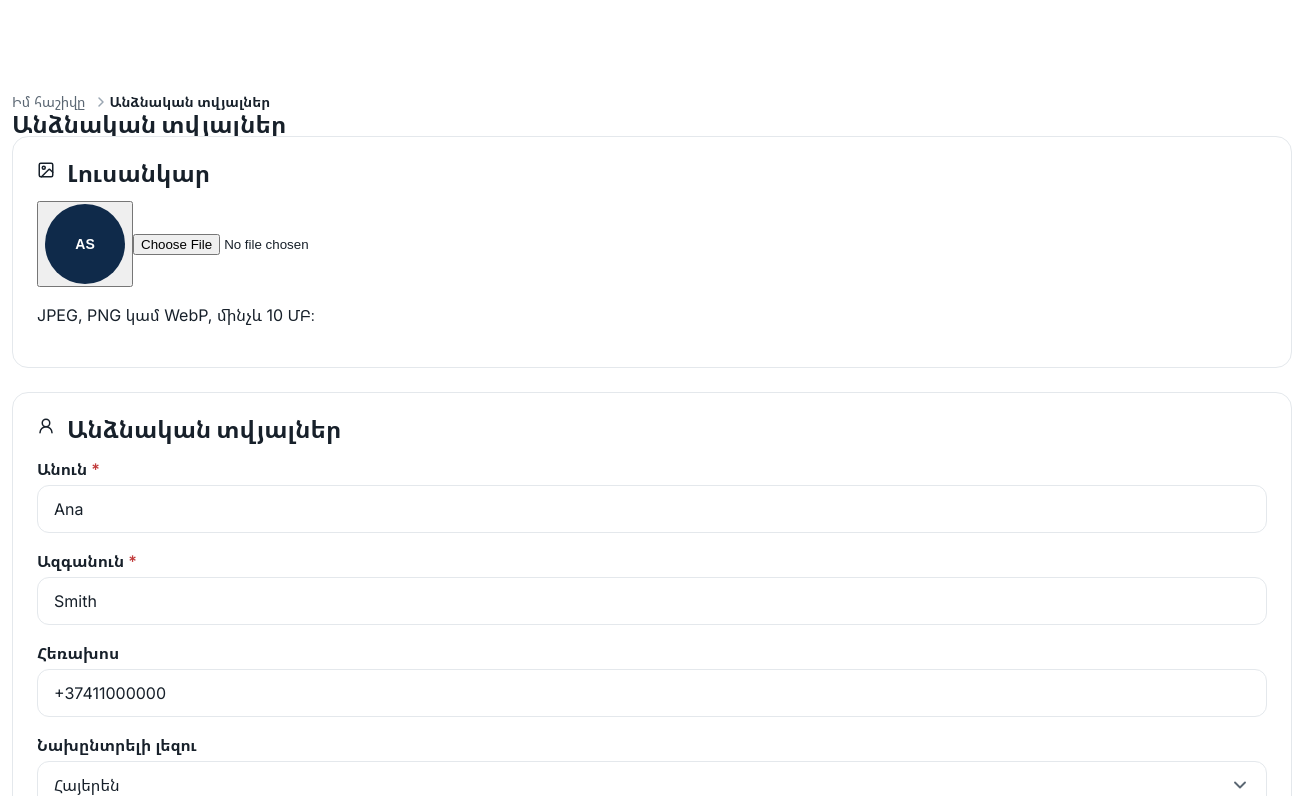
Scenario: ProfilePageContent (apps/web/src/modules/profile) › a failed save shows an error toast
Type "x" into the field labelled "Անուն *" at (652, 509), box [54,486,1250,532]
(page scrolled)
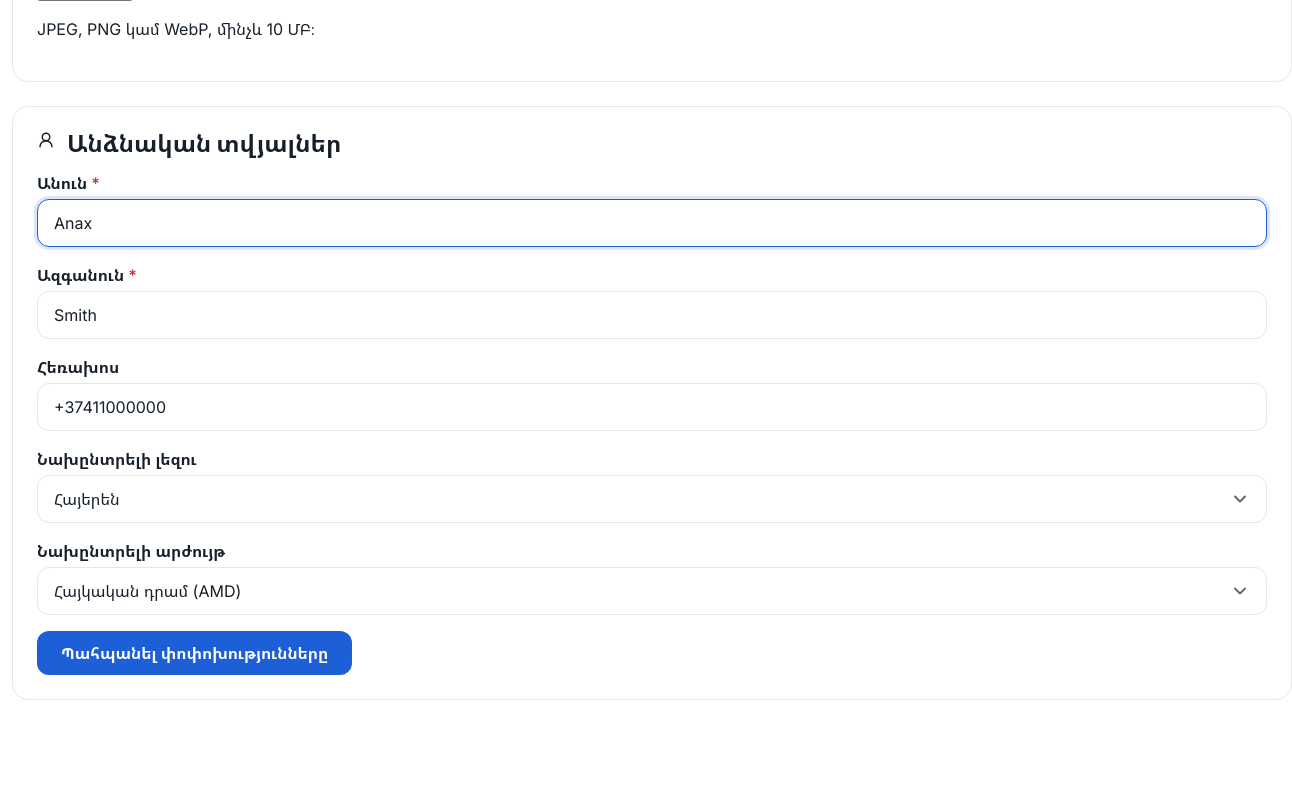
Click the button "Պահպանել փոփոխությունները" at (195, 653), box [37,631,352,675]
(page scrolled)
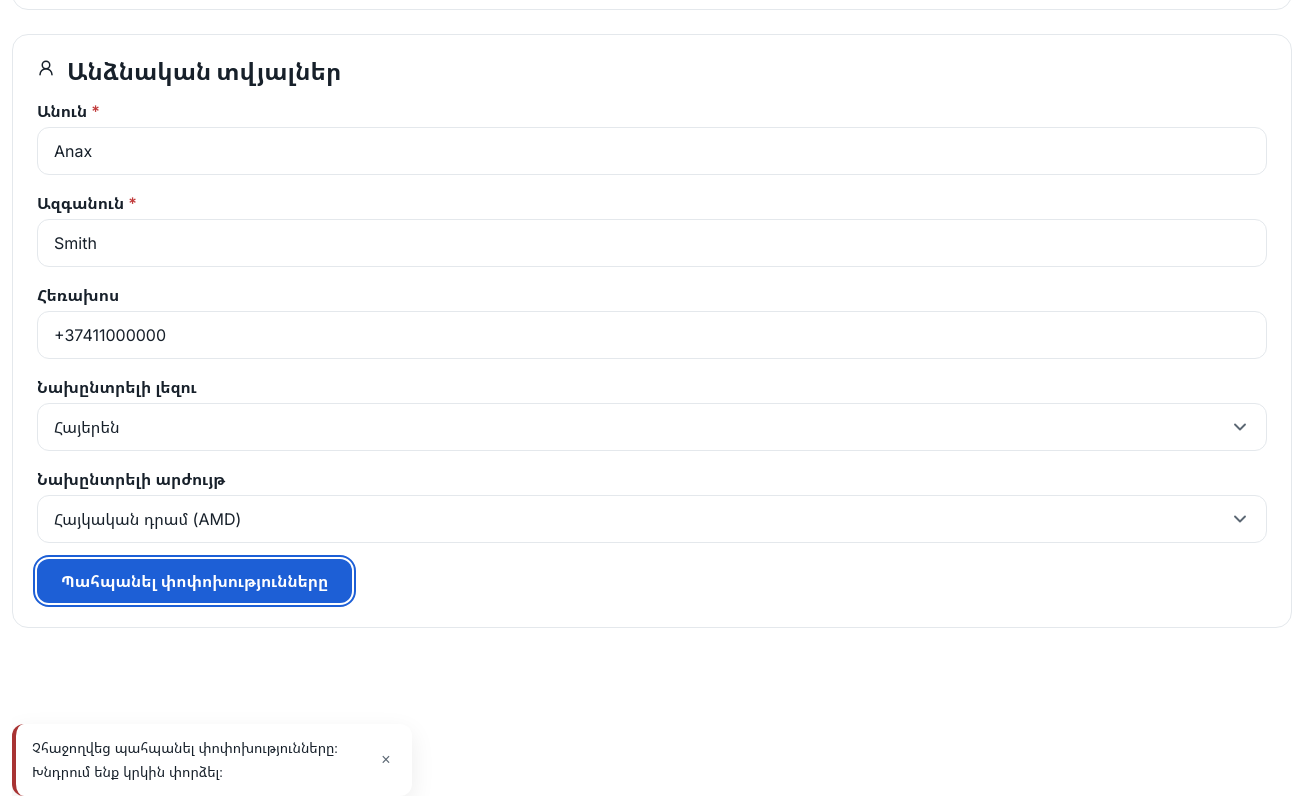
Result: the text "Չհաջողվեց պահպանել փոփոխությունները։ Խնդրում ենք կրկին փորձել։" is shown at [32,736,364,784]
